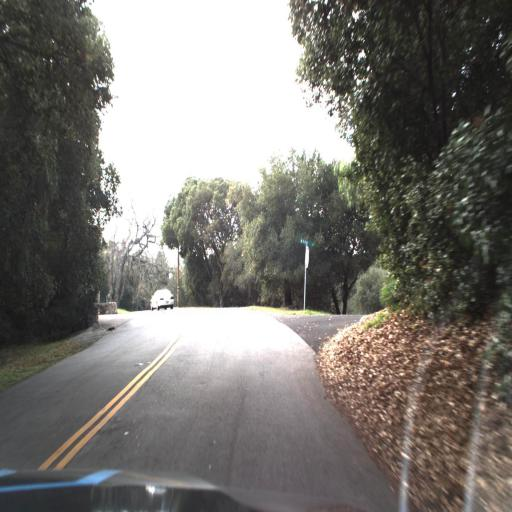car: (147, 281, 175, 314)
